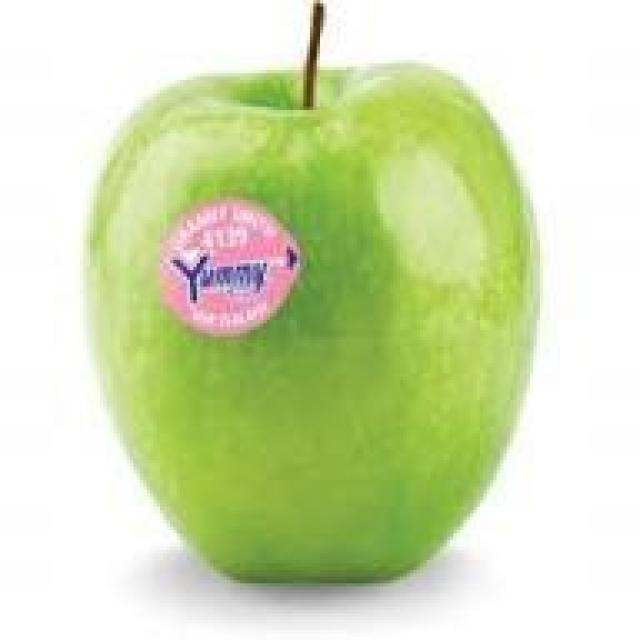apple: (94, 57, 534, 590)
